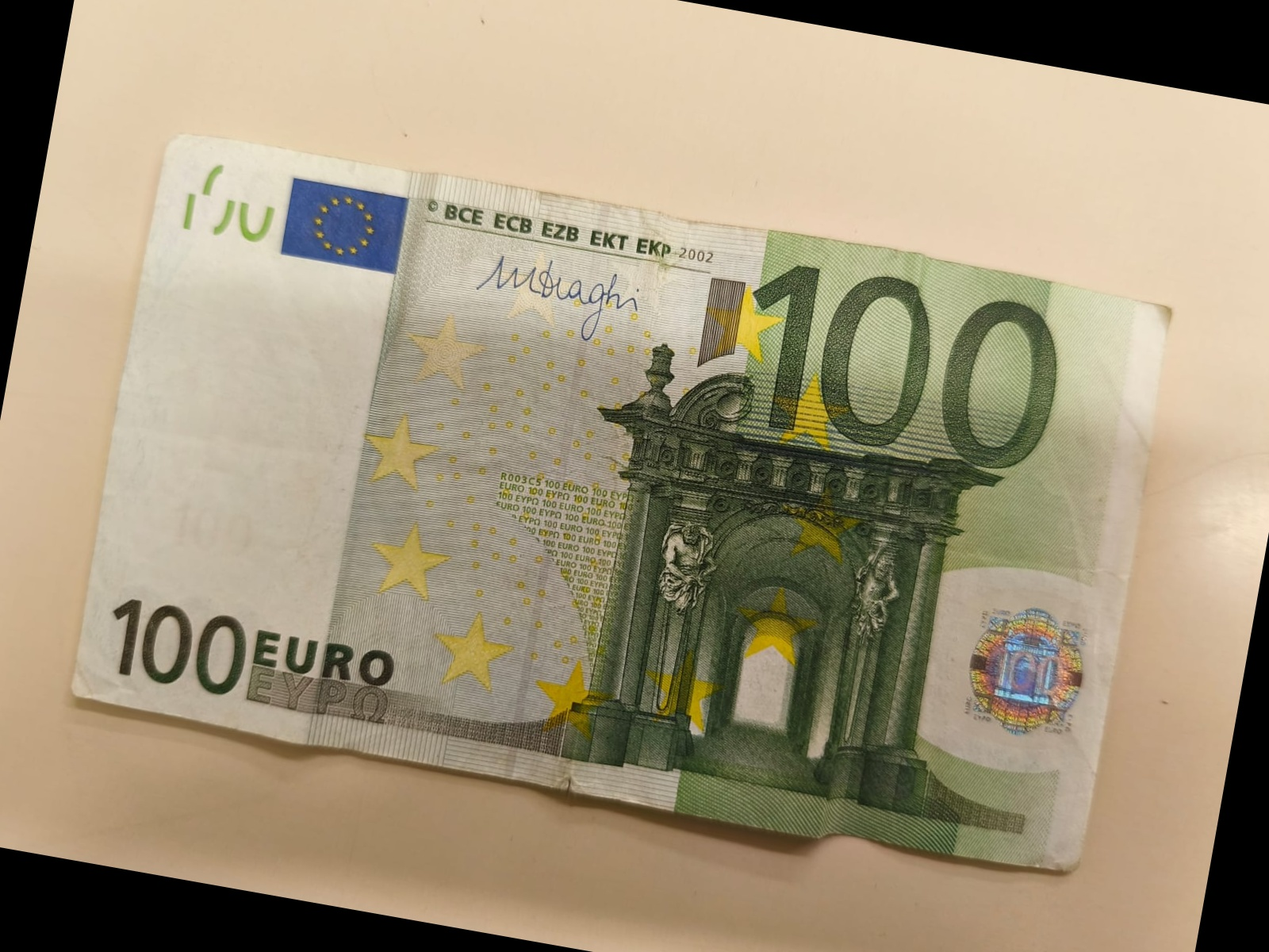Nota de 100€: (102, 201, 1163, 808)
